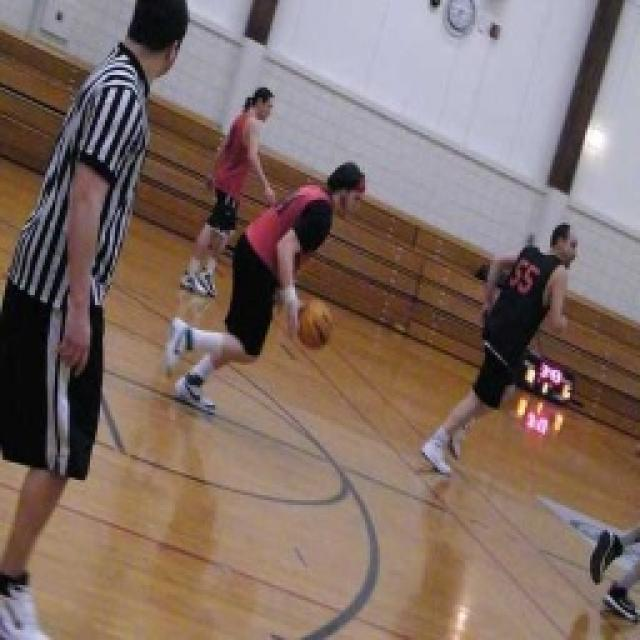basketball: (292, 294, 334, 352)
